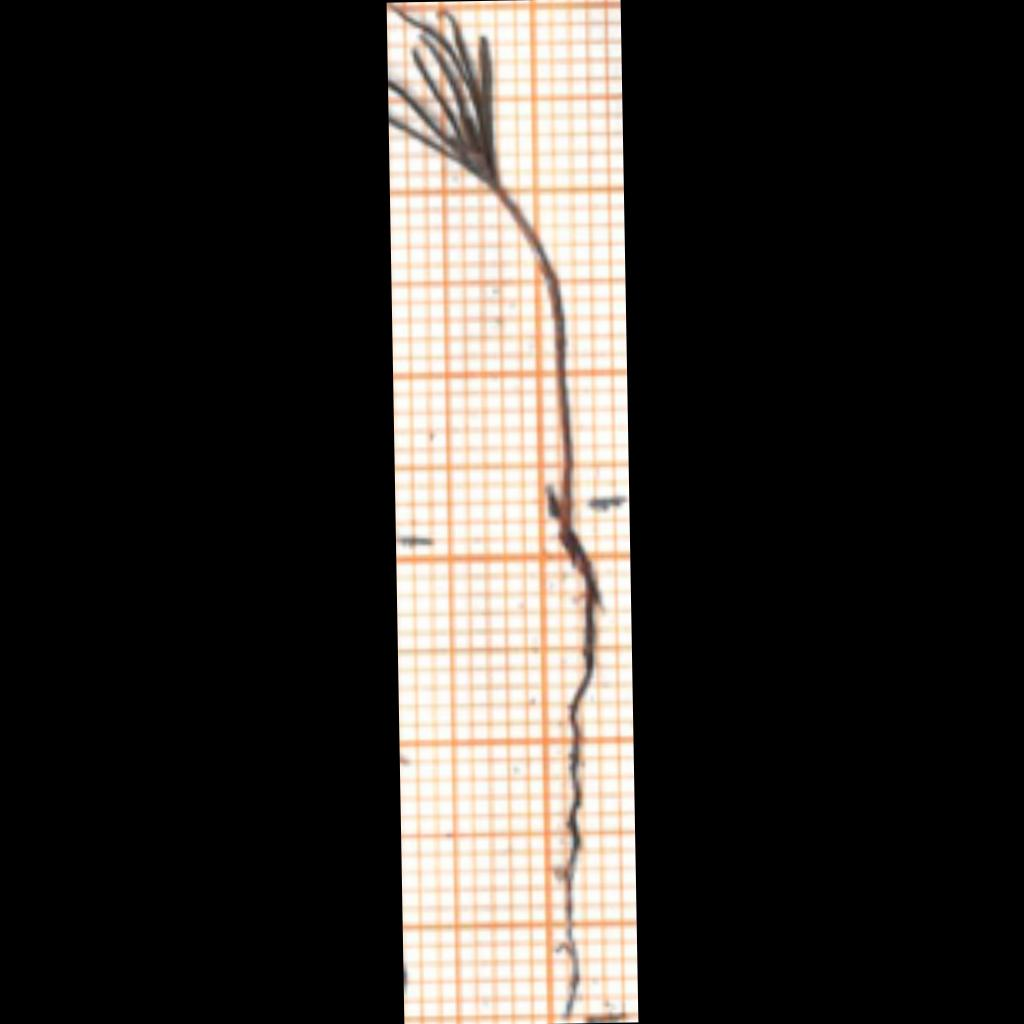rootPinus: (552, 529, 601, 1017), (388, 6, 497, 189)
stemPinus: (498, 187, 573, 526)
